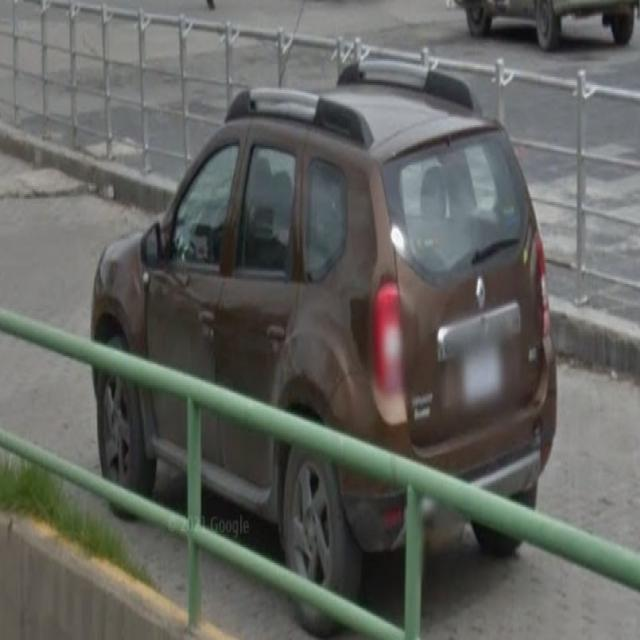cars: (93, 73, 563, 610)
